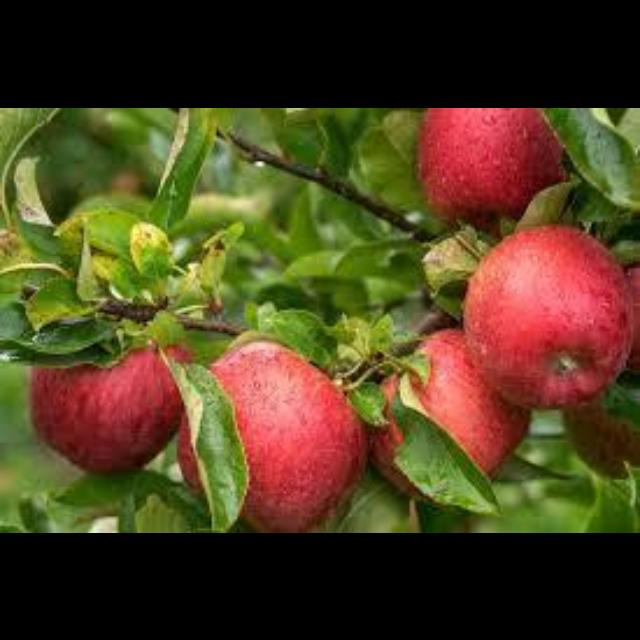apple: (463, 226, 631, 407), (209, 342, 368, 531), (30, 344, 182, 470), (419, 107, 566, 226), (412, 328, 528, 475), (370, 421, 424, 496), (177, 417, 200, 489), (165, 347, 189, 358)
